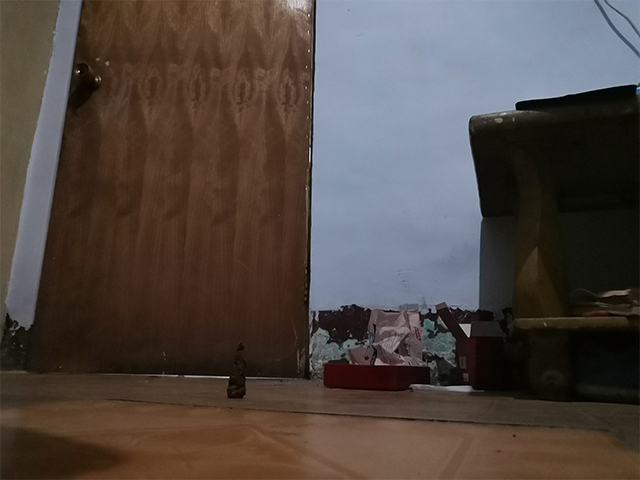feces: (225, 341, 250, 400)
table: (467, 86, 640, 404)
